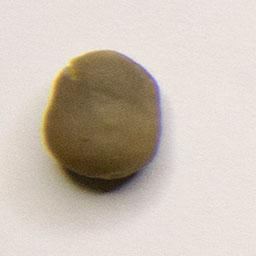peaberry: (38, 46, 165, 183)
